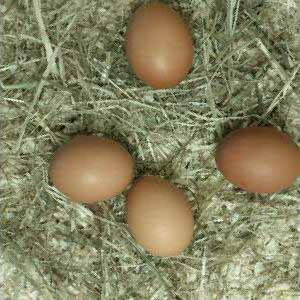egg: (50, 134, 136, 205), (125, 3, 194, 89), (126, 175, 195, 258), (215, 127, 300, 194)
